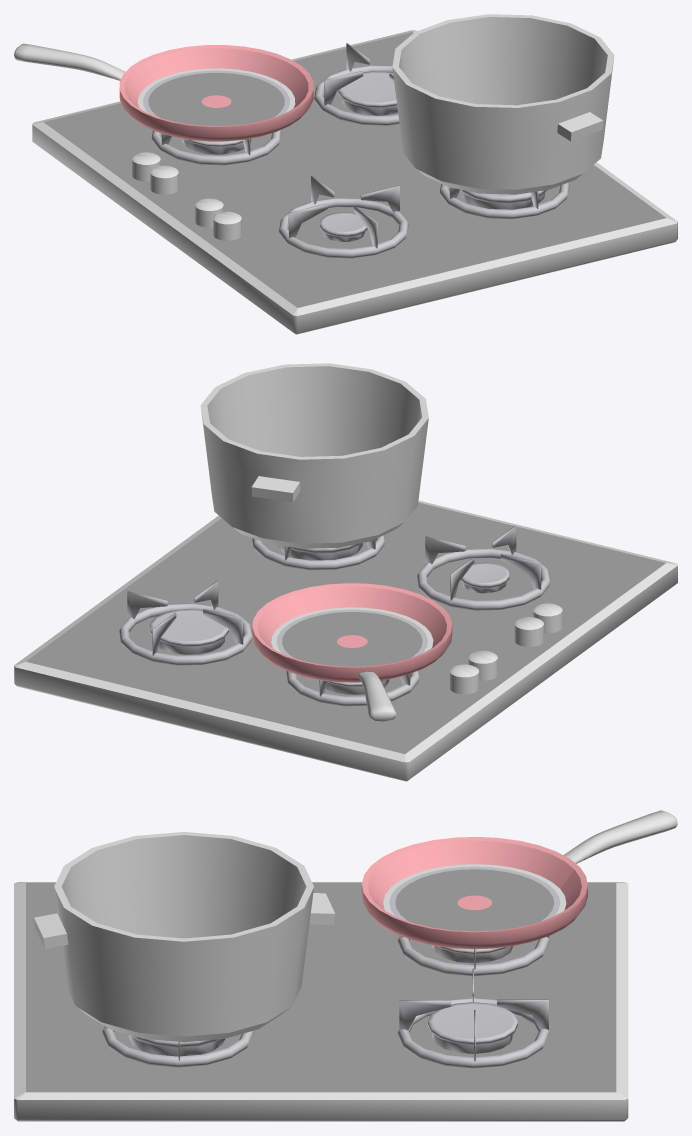
File: coocker.fbx
The picture shows the model from 3 angles, top to bottom: view 1: azimuth 30°, elevation 25°; view 2: azimuth 150°, elevation 25°; view 3: azimuth 270°, elevation 25°; orthographic projection. The views are drawn at different scales.
Visible parts, largest first — view 1: cooker, pot, Pan; view 2: cooker, pot, Pan; view 3: cooker, pot, Pan.
Part boxes in pixels (box(x1,y1,x2,y2)): cooker: box(32, 30, 677, 334); pot: box(392, 14, 614, 194); Pan: box(14, 43, 313, 141); cooker: box(14, 500, 677, 781); pot: box(200, 363, 428, 548); Pan: box(252, 583, 452, 721); cooker: box(14, 882, 628, 1121); pot: box(34, 832, 335, 1042); Pan: box(361, 810, 677, 949).
Bounding box in the file's own units: 82.56 × 31.21 × 105.
